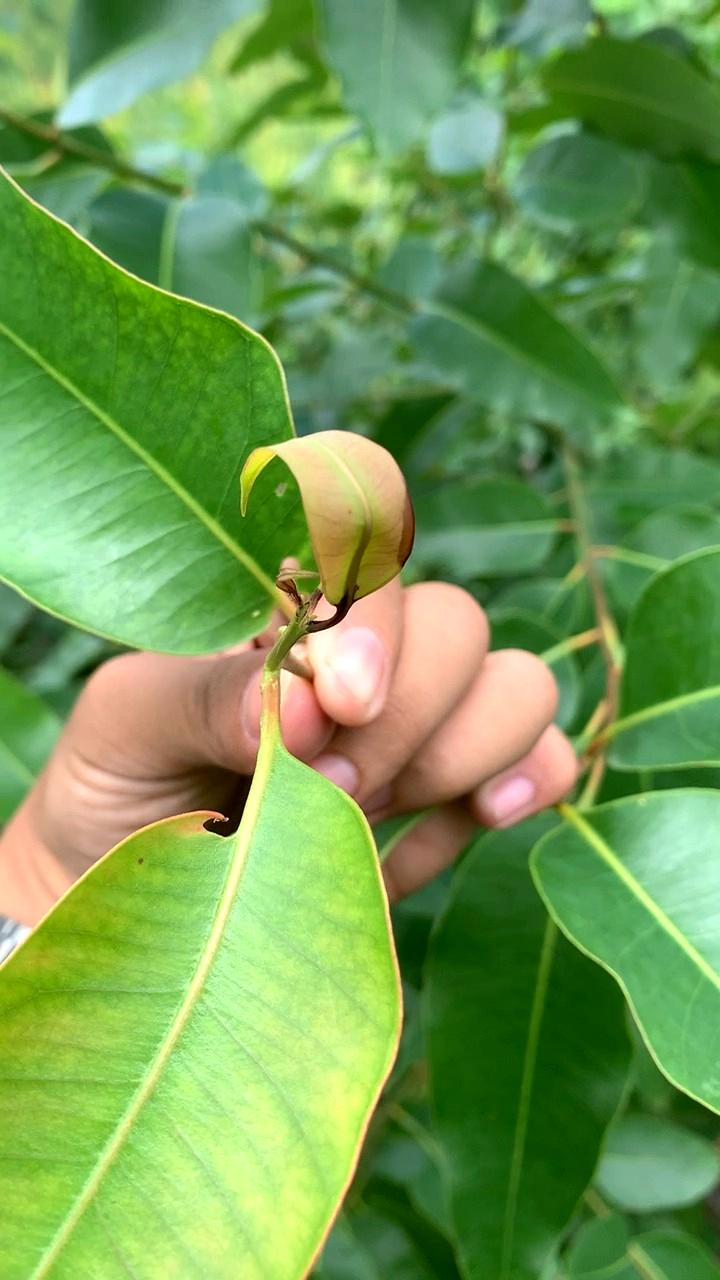Helopeltis-Withered Sprout: (233, 428, 417, 620)
